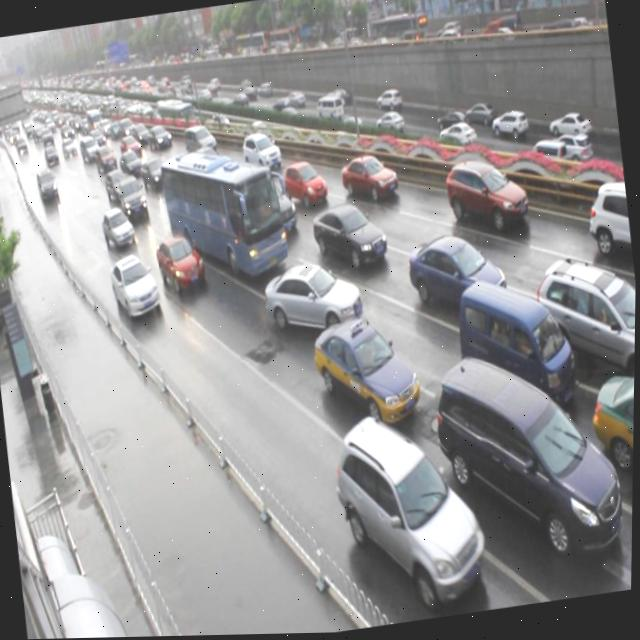car: (326, 401, 494, 620), (526, 247, 637, 397), (304, 306, 419, 433), (403, 227, 509, 318), (258, 254, 366, 341), (442, 152, 531, 241), (309, 196, 391, 280), (585, 371, 636, 489), (582, 178, 634, 263), (108, 251, 163, 322), (154, 228, 210, 296), (339, 149, 401, 209), (280, 158, 329, 212), (239, 129, 284, 176), (98, 203, 140, 253), (116, 172, 151, 224)
truck: (420, 336, 622, 568), (451, 270, 577, 413), (182, 121, 219, 157)
van: (152, 133, 285, 283)
